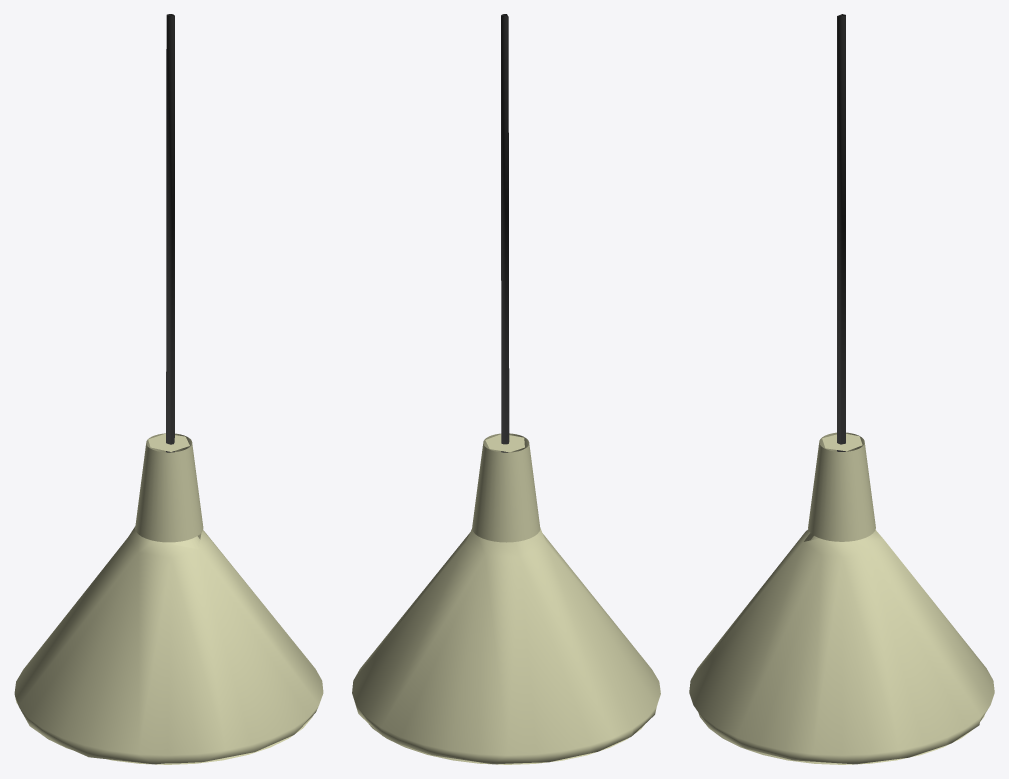
The model's file is RoofLamp.obj.
3 renders of one model, left to right at view 1: azimuth 30°, elevation 25°; view 2: azimuth 150°, elevation 25°; view 3: azimuth 270°, elevation 25°, orthographic.
Parts seen in each view (by area): view 1: barr_rooflamp01; view 2: barr_rooflamp01; view 3: barr_rooflamp01.
Part boxes in pixels (x1,y1,x2,y2): barr_rooflamp01: [14, 14, 323, 764]; barr_rooflamp01: [352, 14, 660, 764]; barr_rooflamp01: [689, 14, 994, 764].
Bounding box in the file's own units: 0.1044 × 0.2555 × 0.1029.
